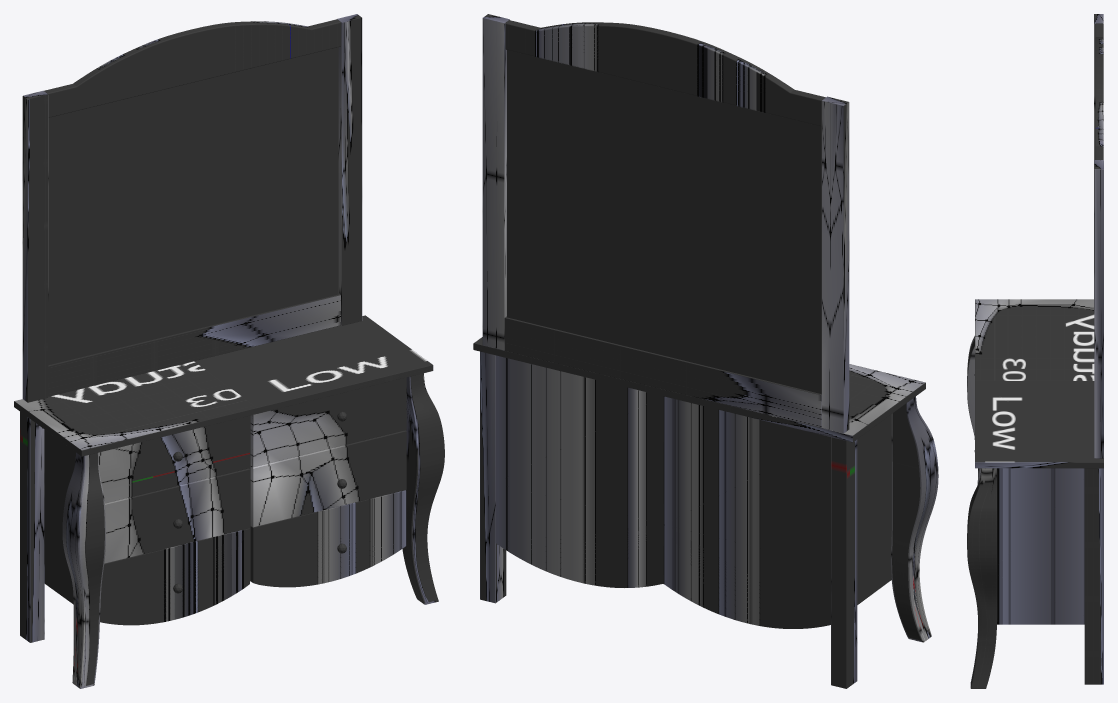
Rendered from DressingTable.FBX.
3 renders of one model, left to right at view 1: azimuth 30°, elevation 25°; view 2: azimuth 150°, elevation 25°; view 3: azimuth 270°, elevation 25°, orthographic. The views are drawn at different scales.
Parts seen in each view (by area): view 1: Desk; view 2: Desk; view 3: Desk.
Part boxes in pixels (x1,y1,x2,y2): Desk: (14, 14, 444, 688); Desk: (473, 14, 938, 688); Desk: (967, 14, 1103, 688).
Size of the model in its own units: 125 by 185 by 42.42.
1 material, 1 textured.
